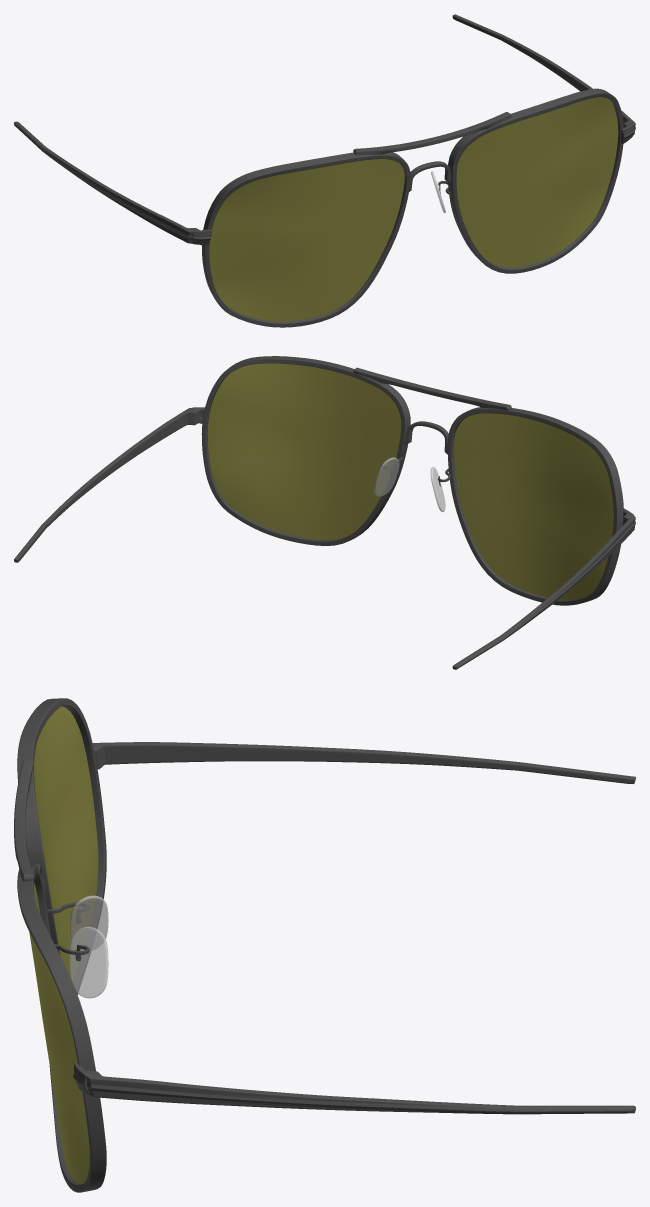
The model's file is Chromanceslots3.glb.
The picture shows the model from 3 angles, top to bottom: view 1: azimuth 30°, elevation 25°; view 2: azimuth 150°, elevation 25°; view 3: azimuth 270°, elevation 25°; orthographic projection. The views are drawn at different scales.
Visible parts, largest first — view 1: Lentes, armacao; view 2: Lentes, armacao, Pontes; view 3: armacao, Lentes, Pontes.
Boxes of the visible parts, x1,y1,x2,y2 form: Lentes: [209, 97, 618, 321]; armacao: [14, 14, 635, 327]; Lentes: [207, 363, 613, 599]; armacao: [14, 356, 635, 669]; Pontes: [373, 457, 445, 512]; armacao: [14, 698, 635, 1192]; Lentes: [29, 706, 98, 1184]; Pontes: [69, 895, 108, 998].
Size of the model in its own units: 0.1573 by 0.0556 by 0.1173.
3 materials, 2 textured.
